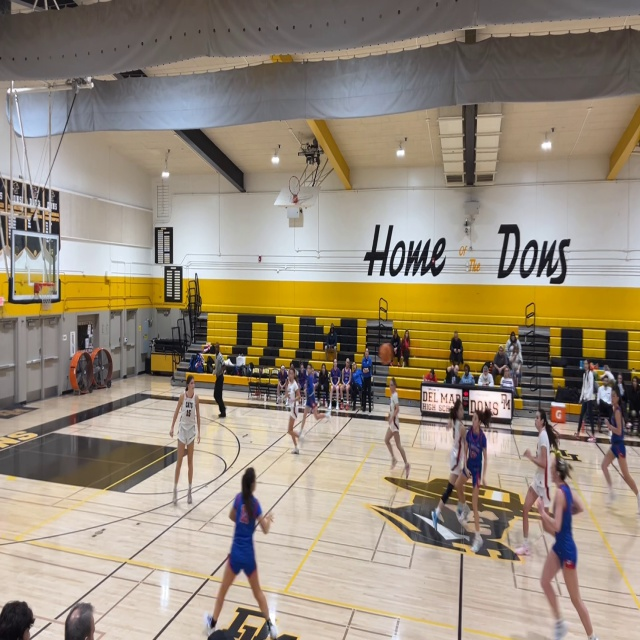Basketball: (378, 343, 393, 365)
